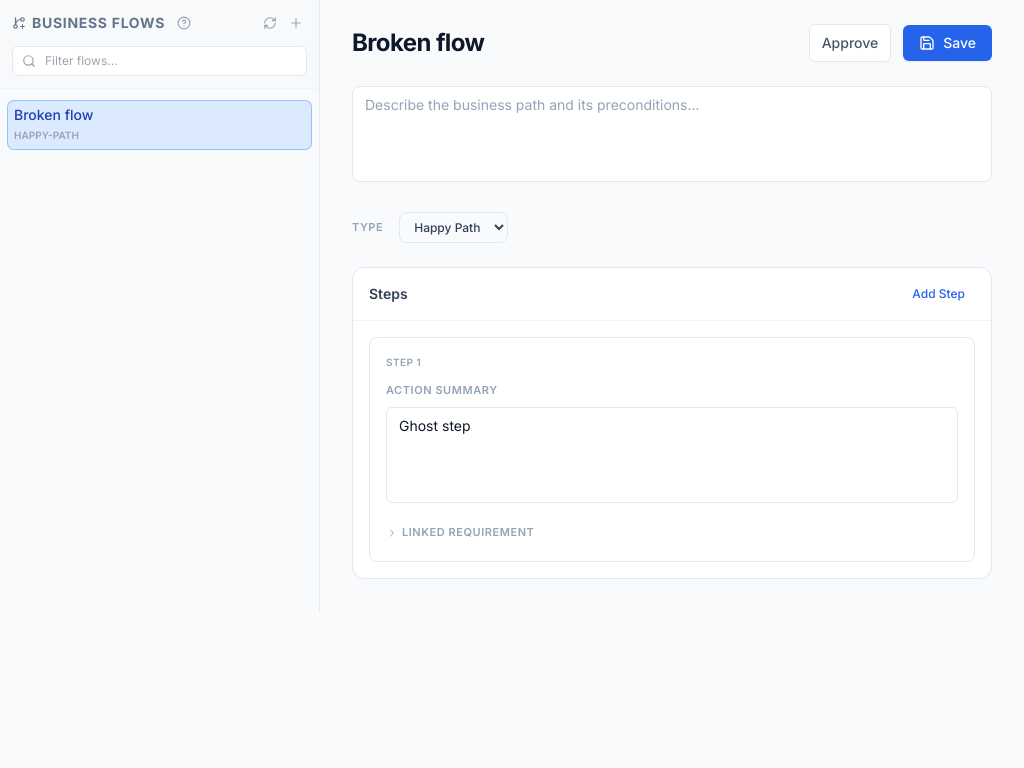
Test: BusinessFlowsPage › blocks approval when a step references a missing requirement
Step 1. Click the button "Approve" → click(850, 43), box [809,24,891,62]
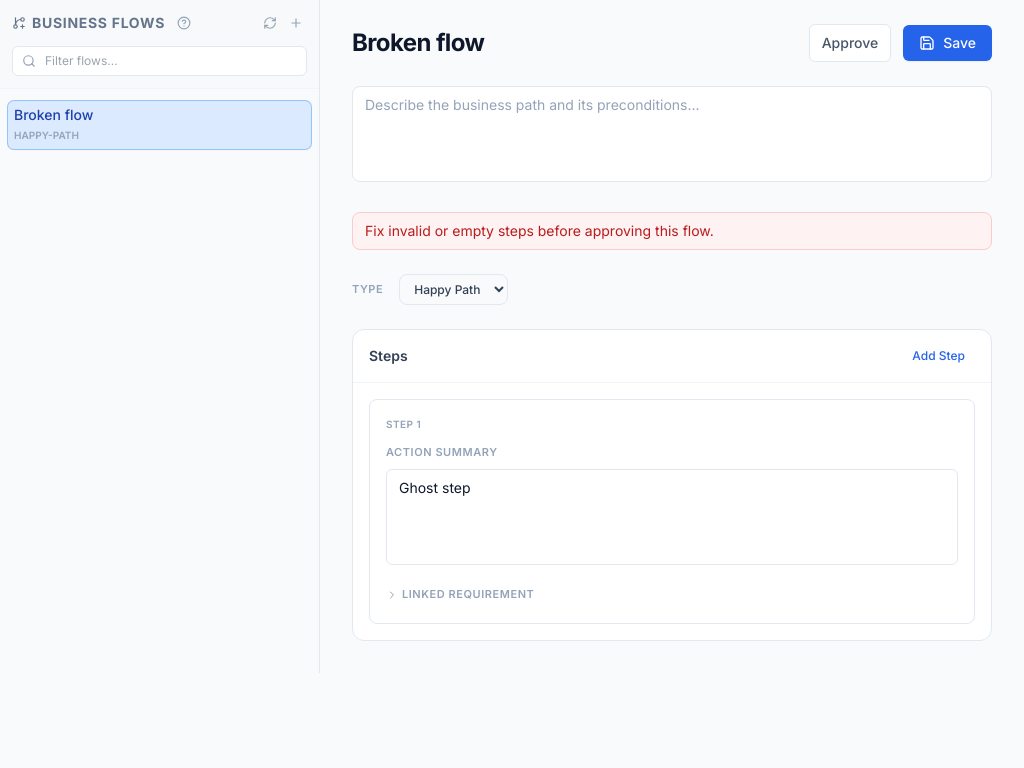
Check: the text "Fix invalid or empty steps before approving this flow." is shown, box [352,212,992,250]
